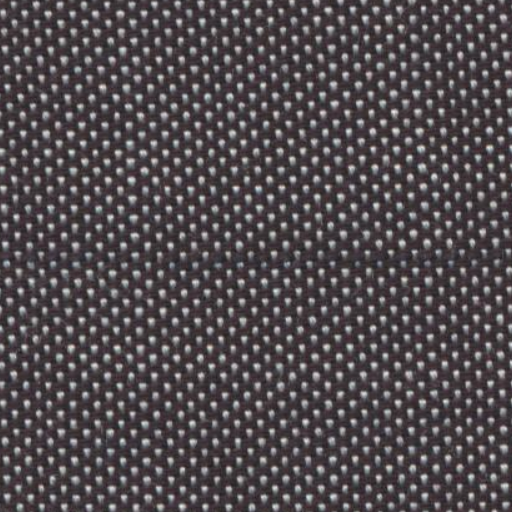TuoSha: (20, 232, 496, 302)
